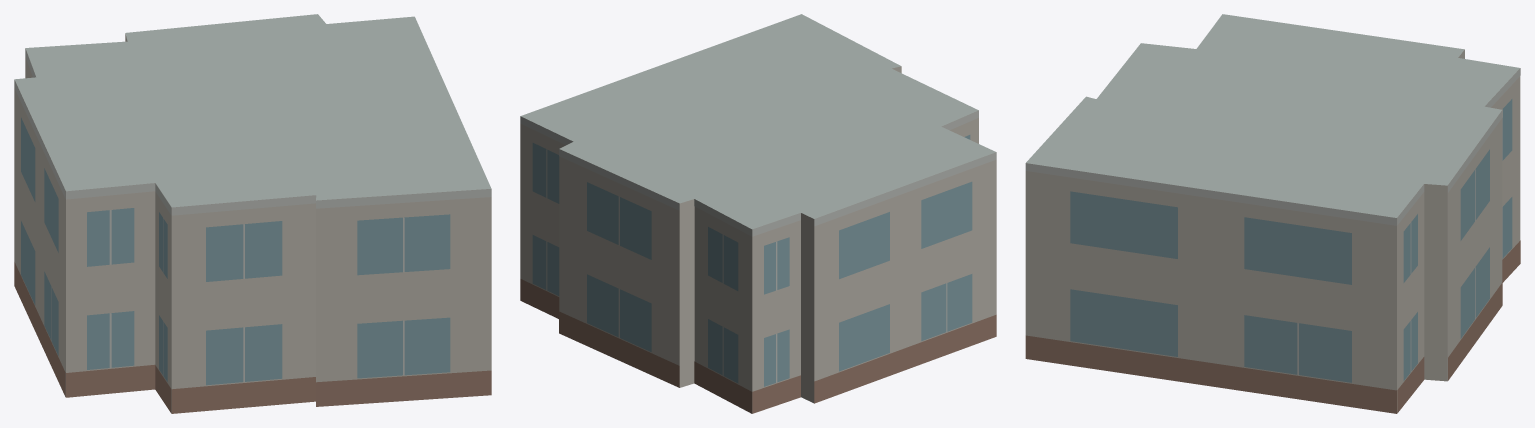
The model's file is survey-upis-32759174.glb.
3 views of the same model, side by side, from view 1: azimuth 30°, elevation 25°; view 2: azimuth 150°, elevation 25°; view 3: azimuth 270°, elevation 25° (orthographic). The views are drawn at different scales.
Parts seen in each view (by area): view 1: survey-upis-32759174.tmp; view 2: survey-upis-32759174.tmp; view 3: survey-upis-32759174.tmp.
Boxes of the visible parts, x1,y1,x2,y2 form: survey-upis-32759174.tmp: (14,14,491,413); survey-upis-32759174.tmp: (520,14,996,413); survey-upis-32759174.tmp: (1025,14,1520,413).
Size of the model in its own units: 13.65 by 6.1 by 13.98.
